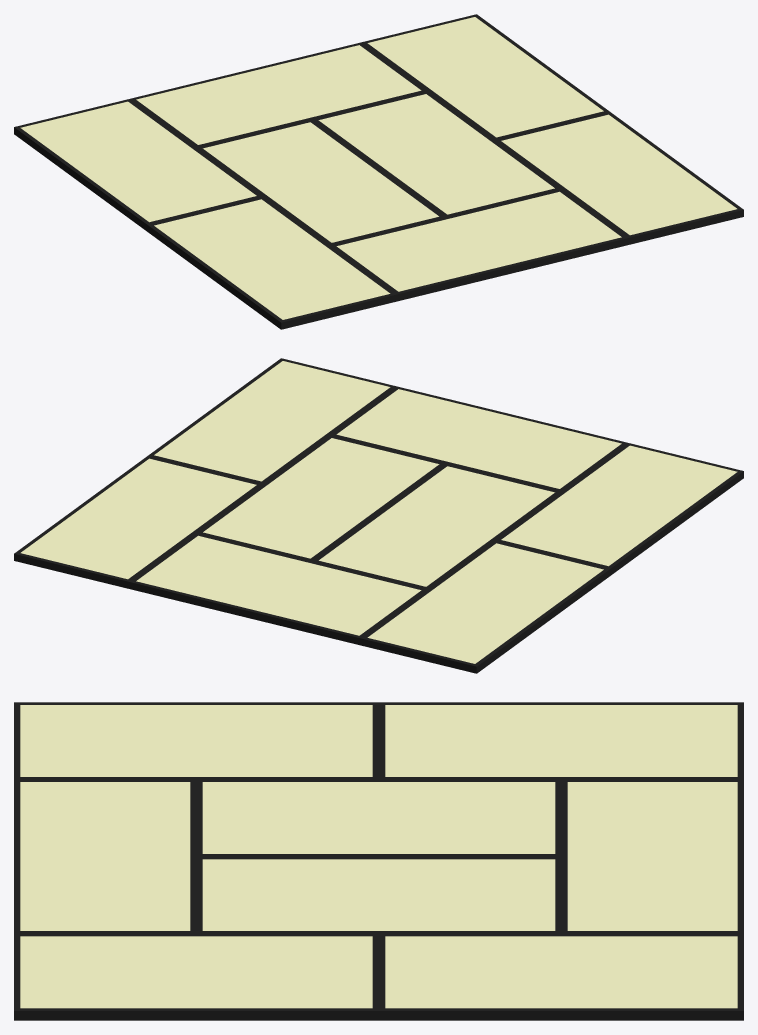
Rendered from Asian_Prop_Tatami_Mat_Large_01.FBX.
3 renders of one model, top to bottom at view 1: azimuth 30°, elevation 25°; view 2: azimuth 150°, elevation 25°; view 3: azimuth 270°, elevation 25°, orthographic. The views are drawn at different scales.
Parts seen in each view (by area): view 1: Asian_Prop_Tatami_Mat_Large_01; view 2: Asian_Prop_Tatami_Mat_Large_01; view 3: Asian_Prop_Tatami_Mat_Large_01.
Boxes of the visible parts, x1,y1,x2,y2 form: Asian_Prop_Tatami_Mat_Large_01: [14, 14, 743, 329]; Asian_Prop_Tatami_Mat_Large_01: [14, 358, 743, 673]; Asian_Prop_Tatami_Mat_Large_01: [14, 702, 743, 1020].
Size of the model in its own units: 5167 by 76 by 5167.
